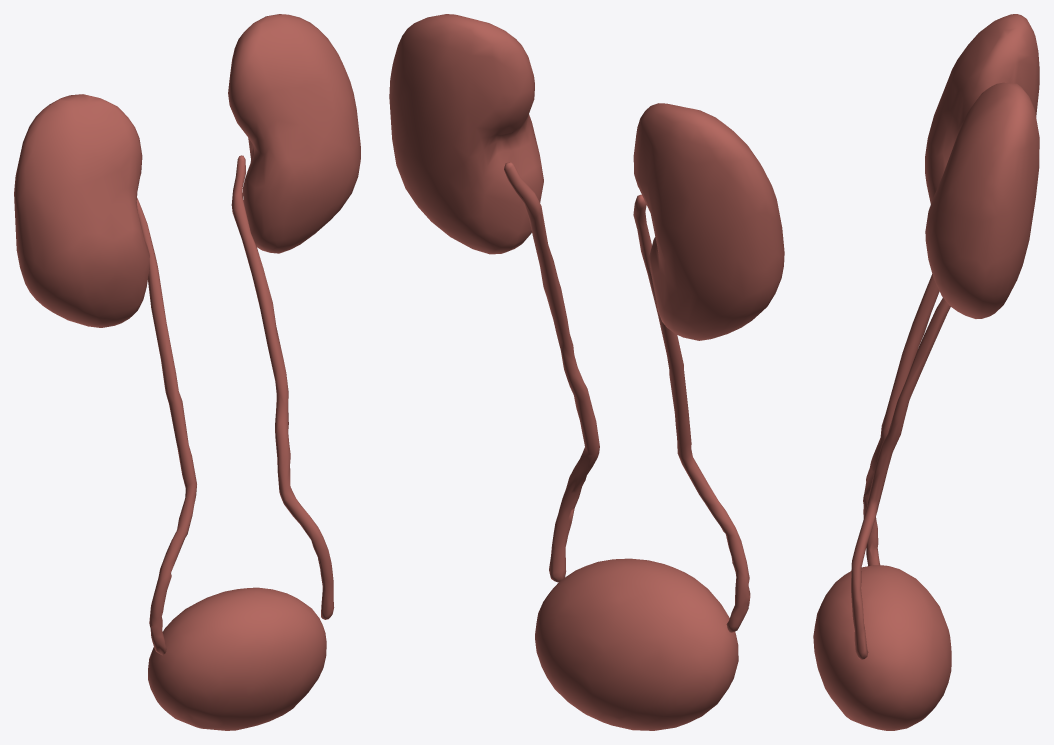
The model's file is pediatric_child_10y_male.urinary.LOD0.glb.
The picture shows the model from 3 angles, left to right: view 1: azimuth 30°, elevation 25°; view 2: azimuth 150°, elevation 25°; view 3: azimuth 270°, elevation 25°; orthographic projection. The views are drawn at different scales.
Visible parts, largest first — view 1: PEDIATRIC.CHILD_10Y.MALE.URINARY.KIDNEY_CORTEX.R, PEDIATRIC.CHILD_10Y.MALE.URINARY.KIDNEY_CORTEX.L, PEDIATRIC.CHILD_10Y.MALE.URINARY.URINARY_BLADDER_WALL, PEDIATRIC.CHILD_10Y.MALE.URINARY.URETER.L, PEDIATRIC.CHILD_10Y.MALE.URINARY.URETER.R; view 2: PEDIATRIC.CHILD_10Y.MALE.URINARY.KIDNEY_CORTEX.L, PEDIATRIC.CHILD_10Y.MALE.URINARY.URINARY_BLADDER_WALL, PEDIATRIC.CHILD_10Y.MALE.URINARY.KIDNEY_CORTEX.R, PEDIATRIC.CHILD_10Y.MALE.URINARY.URETER.L, PEDIATRIC.CHILD_10Y.MALE.URINARY.URETER.R; view 3: PEDIATRIC.CHILD_10Y.MALE.URINARY.KIDNEY_CORTEX.L, PEDIATRIC.CHILD_10Y.MALE.URINARY.URINARY_BLADDER_WALL, PEDIATRIC.CHILD_10Y.MALE.URINARY.KIDNEY_CORTEX.R, PEDIATRIC.CHILD_10Y.MALE.URINARY.URETER.L, PEDIATRIC.CHILD_10Y.MALE.URINARY.URETER.R.
Part boxes in pixels (x1,y1,x2,y2): PEDIATRIC.CHILD_10Y.MALE.URINARY.KIDNEY_CORTEX.R: [14, 94, 149, 327]; PEDIATRIC.CHILD_10Y.MALE.URINARY.KIDNEY_CORTEX.L: [228, 14, 360, 253]; PEDIATRIC.CHILD_10Y.MALE.URINARY.URINARY_BLADDER_WALL: [148, 587, 326, 730]; PEDIATRIC.CHILD_10Y.MALE.URINARY.URETER.L: [231, 155, 334, 619]; PEDIATRIC.CHILD_10Y.MALE.URINARY.URETER.R: [136, 198, 196, 655]; PEDIATRIC.CHILD_10Y.MALE.URINARY.KIDNEY_CORTEX.L: [389, 14, 543, 254]; PEDIATRIC.CHILD_10Y.MALE.URINARY.URINARY_BLADDER_WALL: [535, 558, 738, 730]; PEDIATRIC.CHILD_10Y.MALE.URINARY.KIDNEY_CORTEX.R: [633, 103, 784, 340]; PEDIATRIC.CHILD_10Y.MALE.URINARY.URETER.L: [504, 162, 599, 582]; PEDIATRIC.CHILD_10Y.MALE.URINARY.URETER.R: [633, 194, 750, 632]; PEDIATRIC.CHILD_10Y.MALE.URINARY.KIDNEY_CORTEX.L: [925, 82, 1039, 318]; PEDIATRIC.CHILD_10Y.MALE.URINARY.URINARY_BLADDER_WALL: [813, 565, 951, 730]; PEDIATRIC.CHILD_10Y.MALE.URINARY.KIDNEY_CORTEX.R: [925, 14, 1039, 203]; PEDIATRIC.CHILD_10Y.MALE.URINARY.URETER.L: [851, 298, 950, 659]; PEDIATRIC.CHILD_10Y.MALE.URINARY.URETER.R: [863, 274, 939, 566].
Bounding box in the file's own units: 0.1564 × 0.2857 × 0.0862.
